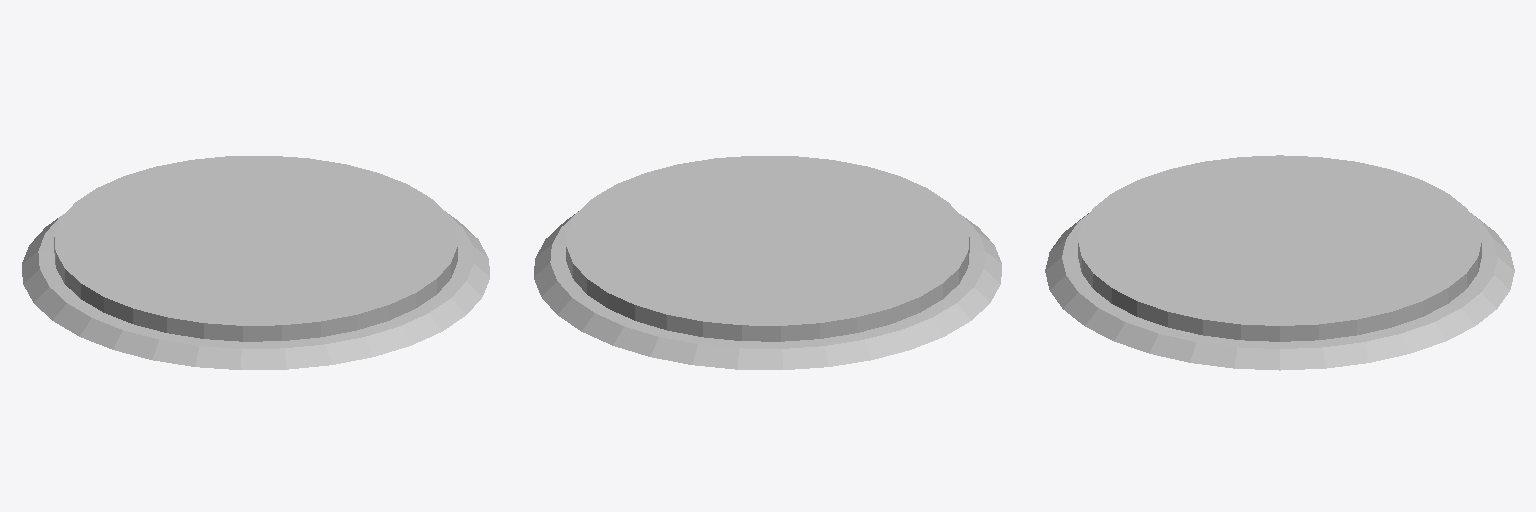
Rendered from Platform.obj.
3 views of the same model, side by side, from view 1: azimuth 30°, elevation 25°; view 2: azimuth 150°, elevation 25°; view 3: azimuth 270°, elevation 25° (orthographic).
Visible parts, largest first — view 1: Cylinder; view 2: Cylinder; view 3: Cylinder.
Part boxes in pixels (left/top/right/bottom): Cylinder: left=22, top=156, right=489, bottom=369; Cylinder: left=534, top=156, right=1001, bottom=369; Cylinder: left=1045, top=155, right=1514, bottom=370.
Bounding box in the file's own units: 40 × 2.87 × 40.